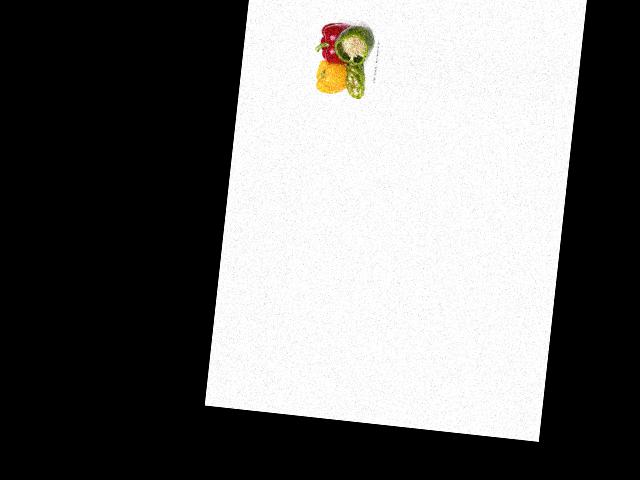bell_pepper: (331, 19, 373, 66)
